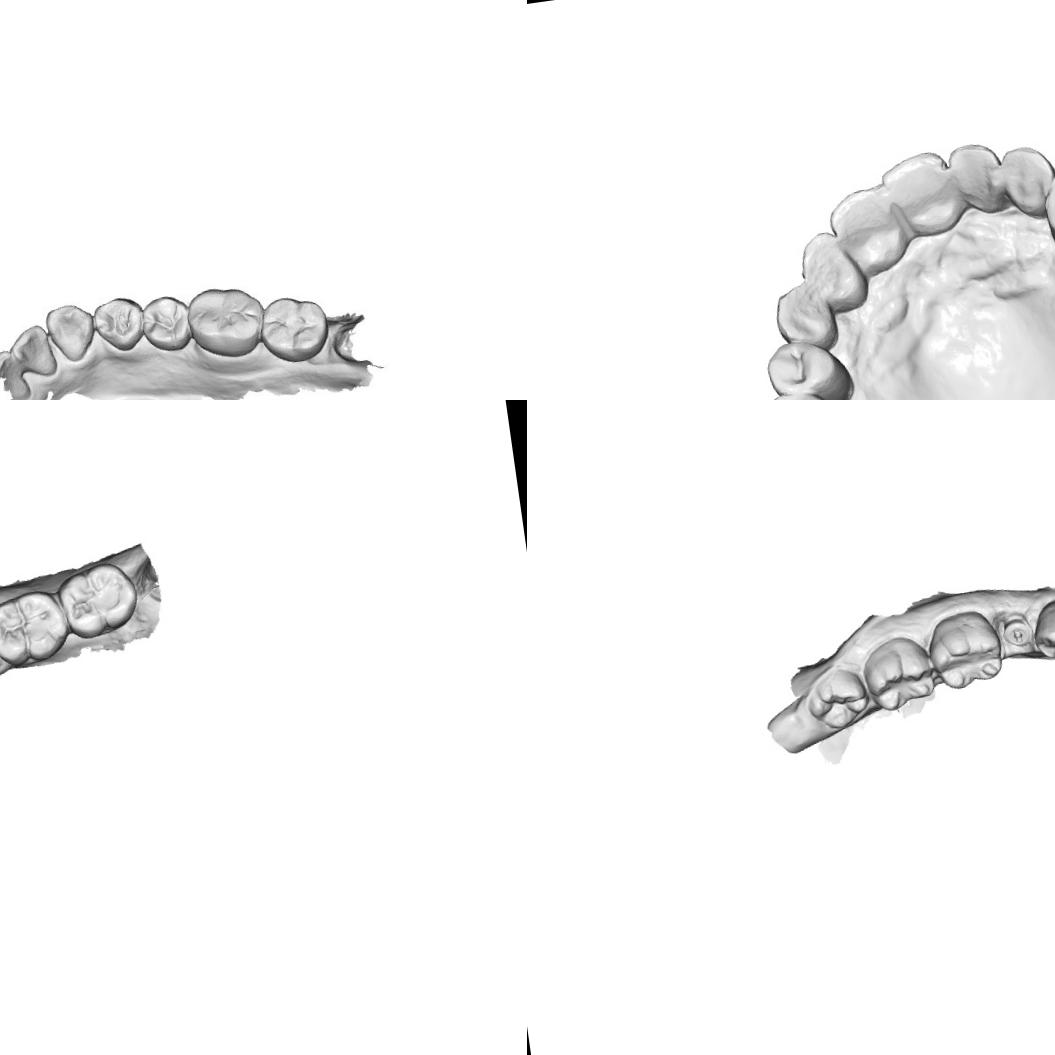canine: (770, 278, 842, 356), (995, 140, 1055, 222), (46, 301, 100, 362)
implant_minus: (1000, 614, 1036, 650)
incisor: (822, 182, 906, 272), (875, 147, 958, 233), (794, 226, 867, 313), (944, 138, 1012, 214), (12, 325, 60, 378)
molar: (54, 559, 143, 642), (924, 606, 1007, 693), (858, 630, 939, 714), (188, 282, 266, 361), (0, 585, 70, 671), (259, 288, 333, 365), (802, 662, 875, 733)
premolar: (759, 336, 851, 400), (142, 289, 198, 356), (92, 294, 144, 356), (1028, 596, 1055, 664), (760, 383, 856, 400), (1038, 162, 1055, 252)
